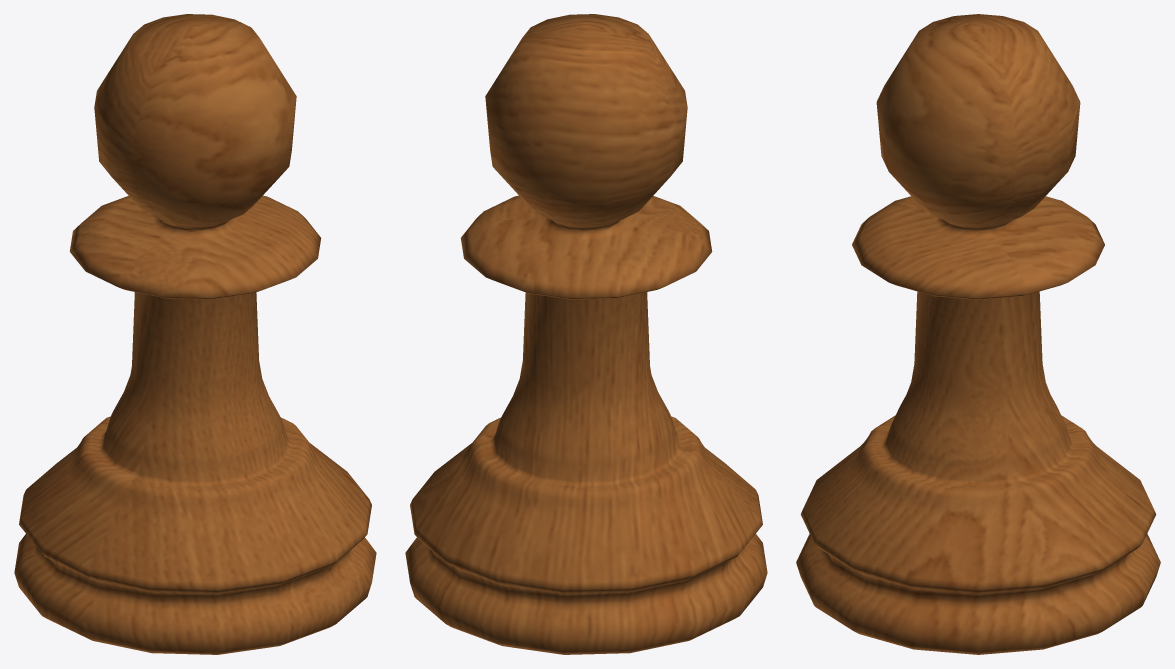
The model's file is SM_WhitePawn.fbx.
3 renders of one model, left to right at view 1: azimuth 30°, elevation 25°; view 2: azimuth 150°, elevation 25°; view 3: azimuth 270°, elevation 25°, orthographic.
Parts seen in each view (by area): view 1: SM_WhitePawn; view 2: SM_WhitePawn; view 3: SM_WhitePawn.
Boxes of the visible parts, x1=… form: SM_WhitePawn: x1=14, y1=14, x2=376, y2=654; SM_WhitePawn: x1=405, y1=14, x2=767, y2=654; SM_WhitePawn: x1=796, y1=14, x2=1160, y2=654.
Size of the model in its own units: 6.08 by 10.27 by 6.08.
